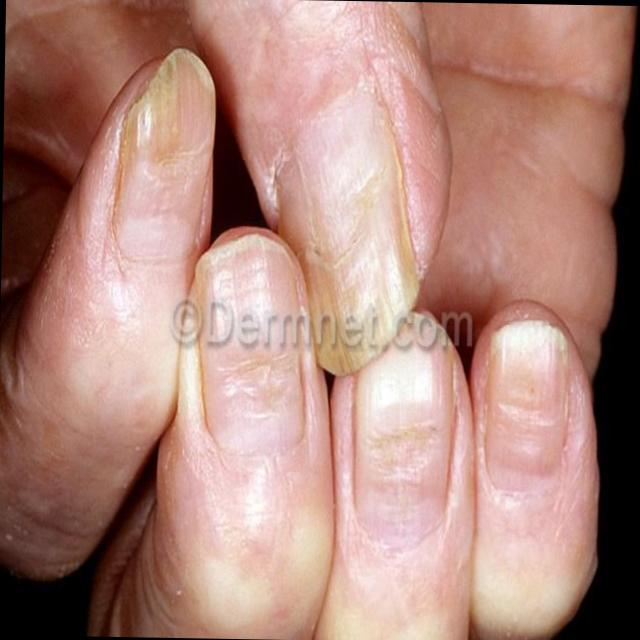Nail: (279, 79, 419, 374), (193, 234, 307, 456), (356, 315, 460, 544), (115, 49, 216, 254), (484, 318, 572, 496)
